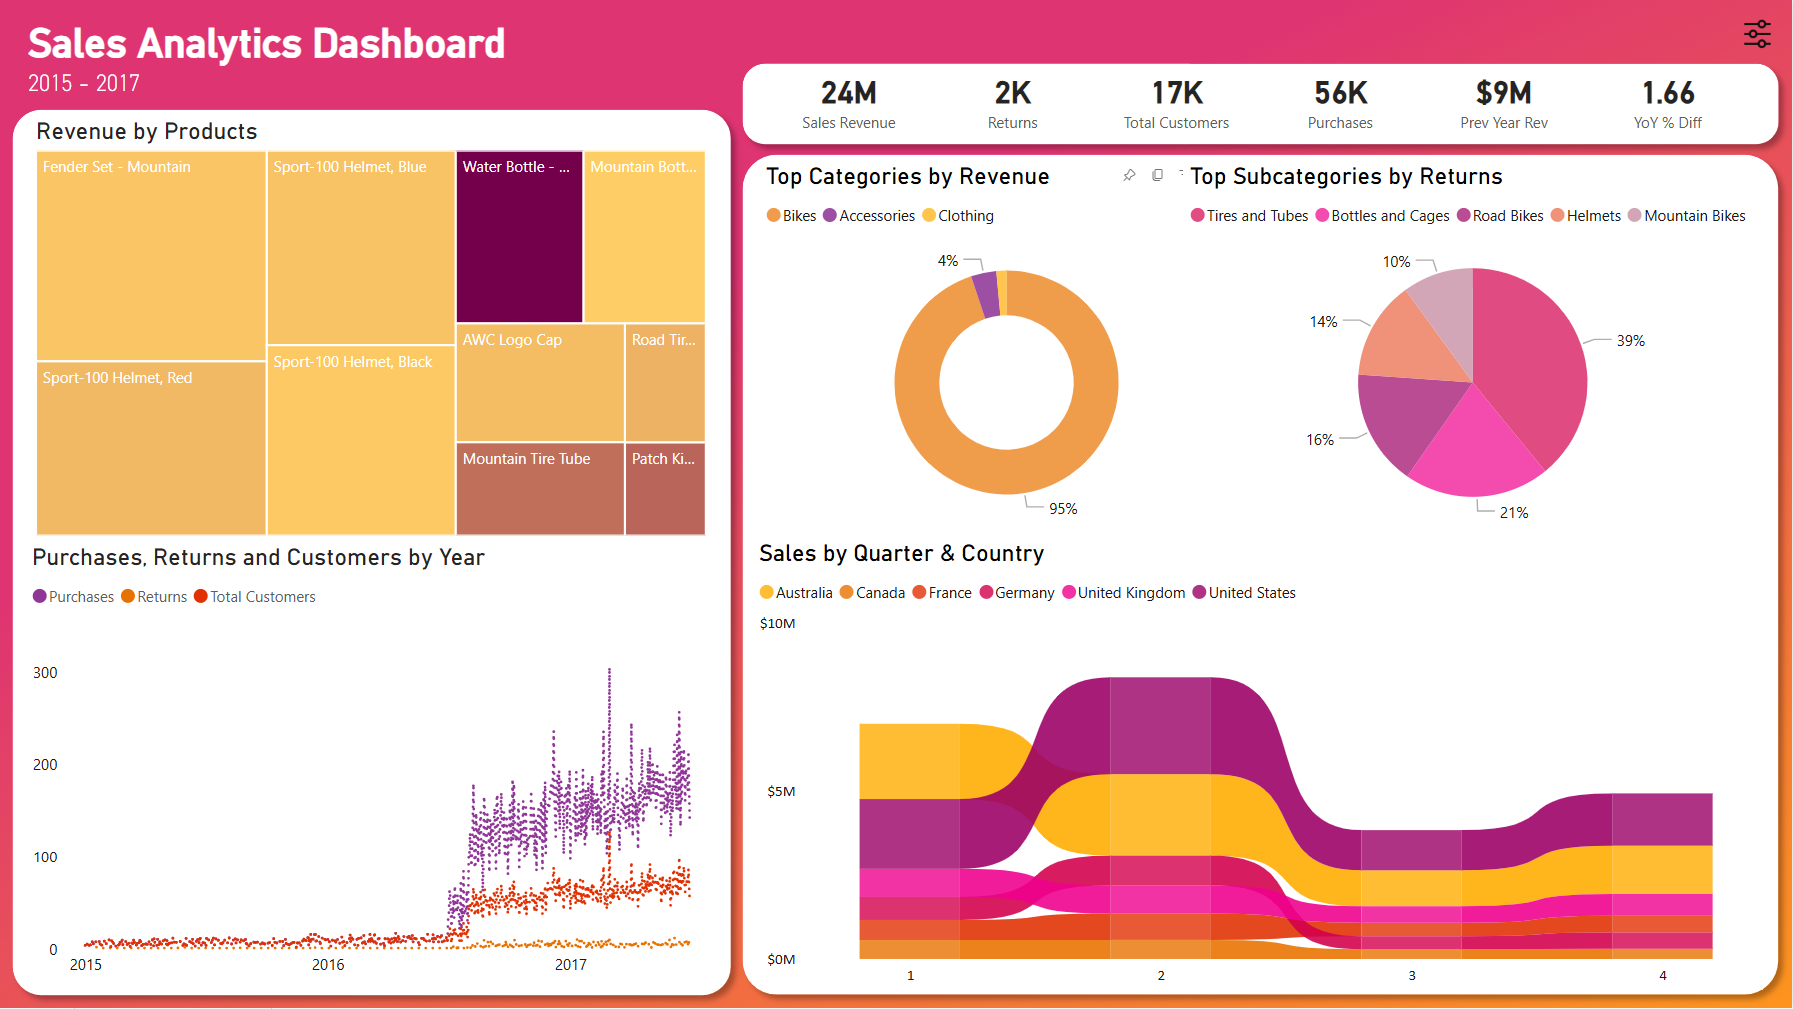

The page's visual inventory and layout, read from the dashboard file:
{"tool":"powerbi","page":{"name":"Sales","canvas":[1280,720],"ordinal":0},"visuals":[{"type":"shape","title":"Pg 1 Container 3","box":[521.8,36.4,758.2,75.6],"z":0},{"type":"cardVisual","title":"KPI 4","fields":{"Data":["Fact_Sales.Sales Revenue","Dim_Calendar_Returns.Returns","Dim_Calendar_Returns.Total Customers","Fact_Sales.Purchases","Dim_Products.Prev Year Rev","Dim_Products.YoY % Diff","Dim_Customers.Churn %"]},"box":[542.8,36.4,716.1,65.1],"z":500},{"type":"shape","title":"Pg 1 Container 2","box":[521.8,101.5,758.2,618.5],"z":1000},{"type":"shape","title":"Pg 1 Container 1","box":[0,68.9,531.3,651],"z":2000},{"type":"donutChart","title":"Top Categories by Revenue","fields":{"Category":["Dim_Products.categoryname"],"Y":["Fact_Sales.Sales Revenue"]},"box":[541.9,115.8,354.2,269],"z":3000},{"type":"pieChart","title":"Top Subcategories by Returns","fields":{"Y":["Fact_Sales.Returns"],"Category":["Dim_Products.subcategoryname"]},"box":[845.4,115.8,413.6,269],"z":4000},{"type":"ribbonChart","title":"Sales by Quarter & Country","fields":{"Category":["Dim_Calendar_Sales.Quarter"],"Series":["Dim_Territories.Country"],"Y":["Fact_Sales.Sales Revenue"]},"box":[541.9,384.9,717.1,321.7],"z":5000},{"type":"textbox","title":"Dashboard Title ","box":[15.3,0,506.4,74.7],"z":6000},{"type":"lineChart","title":"Purchases, Returns and Customers by Year","fields":{"Category":["Fact_Sales.TransactionDate"],"Y":["Fact_Sales.Purchases","Fact_Sales.Returns","Dim_Calendar_Returns.Total Customers"]},"box":[18.2,387.7,492.1,318.8],"z":7000},{"type":"image","title":"Filter Button","box":[1238,6,35,36],"z":8000},{"type":"actionButton","title":"Slicer Button Frame","box":[1237.8,4.4,35.6,37.8],"z":9000},{"type":"treemap","title":"Revenue by Products","fields":{"Group":["Dim_Products.productname"],"Values":["Fact_Sales.Sales Revenue"]},"box":[21.1,83.3,489.2,304.4],"z":11000}]}

Visuals, with their boxes in screenshot pixels (x1, y1, x2, y2), scaled from the page's 1280x720 canvas onto the 1793x1009 screenshot:
"Pg 1 Container 3" shape: detection(731, 51, 1792, 157)
"KPI 4" cardVisual: detection(760, 51, 1763, 142)
"Pg 1 Container 2" shape: detection(731, 142, 1792, 1008)
"Pg 1 Container 1" shape: detection(0, 97, 744, 1008)
"Top Categories by Revenue" donutChart: detection(759, 162, 1255, 539)
"Top Subcategories by Returns" pieChart: detection(1184, 162, 1764, 539)
"Sales by Quarter & Country" ribbonChart: detection(759, 539, 1764, 990)
"Dashboard Title " textbox: detection(21, 0, 731, 105)
"Purchases, Returns and Customers by Year" lineChart: detection(25, 543, 715, 990)
"Filter Button" image: detection(1734, 8, 1783, 59)
"Slicer Button Frame" actionButton: detection(1734, 6, 1784, 59)
"Revenue by Products" treemap: detection(30, 117, 715, 543)
